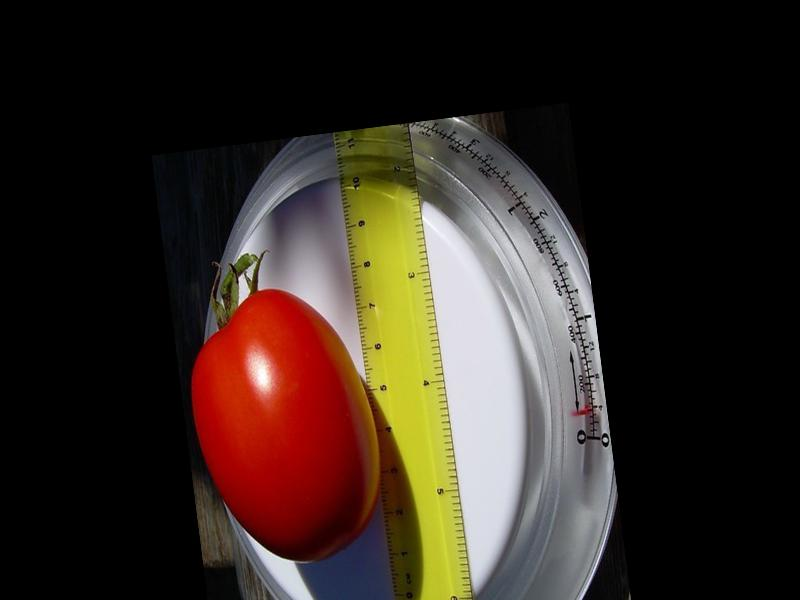Tomato: (177, 276, 396, 572)
